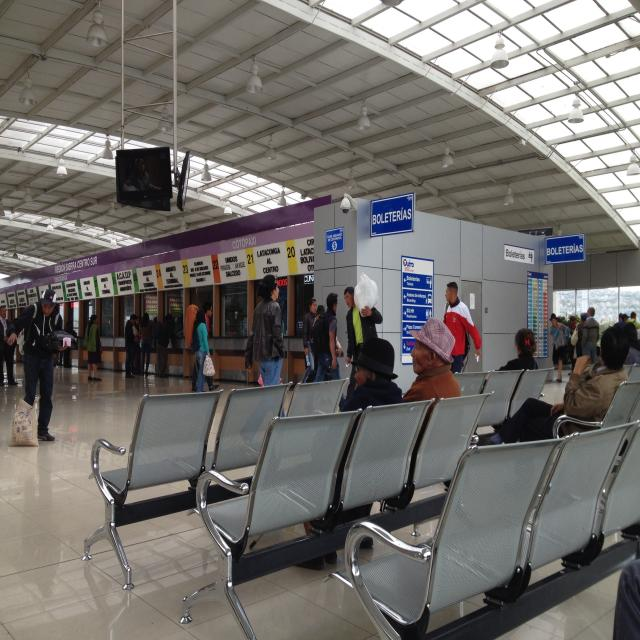body: (478, 324, 631, 446), (5, 289, 69, 442), (239, 274, 289, 447), (21, 443, 60, 596), (400, 316, 462, 402), (339, 336, 407, 412), (552, 311, 640, 366), (343, 285, 383, 403), (441, 280, 484, 375), (312, 292, 346, 412), (611, 539, 640, 639), (191, 301, 220, 393), (496, 327, 539, 370), (548, 312, 572, 384), (300, 297, 318, 385), (0, 305, 18, 387), (156, 312, 178, 379), (193, 308, 210, 392), (83, 314, 103, 381), (580, 307, 600, 364), (56, 319, 74, 381), (138, 311, 154, 377), (125, 313, 140, 379), (125, 377, 168, 395), (147, 310, 179, 334), (130, 316, 142, 376), (313, 304, 326, 325), (87, 381, 101, 399), (336, 334, 342, 359)
